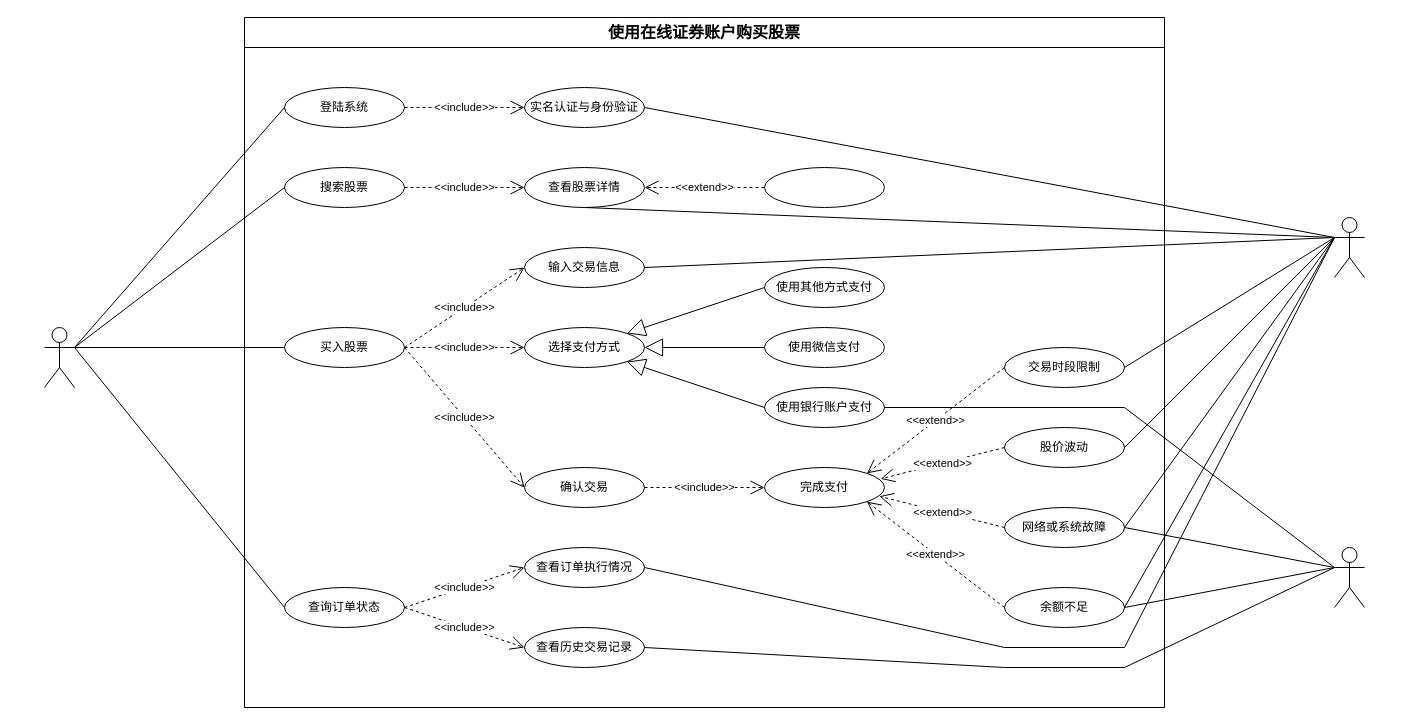
Some shapes in this 1414 by 725 pixel diagram are drawn without their labels. The shapes that lost their labels are listed below. From the top down, each one's box as (x1, y1, x2, y2) in pixels, then its label:
(764, 166, 884, 208): 股票信息不存在
(1334, 216, 1364, 278): 在线证券平台
(44, 326, 74, 388): 投资者（用户）
(1334, 546, 1364, 608): 银行账户（支付）
